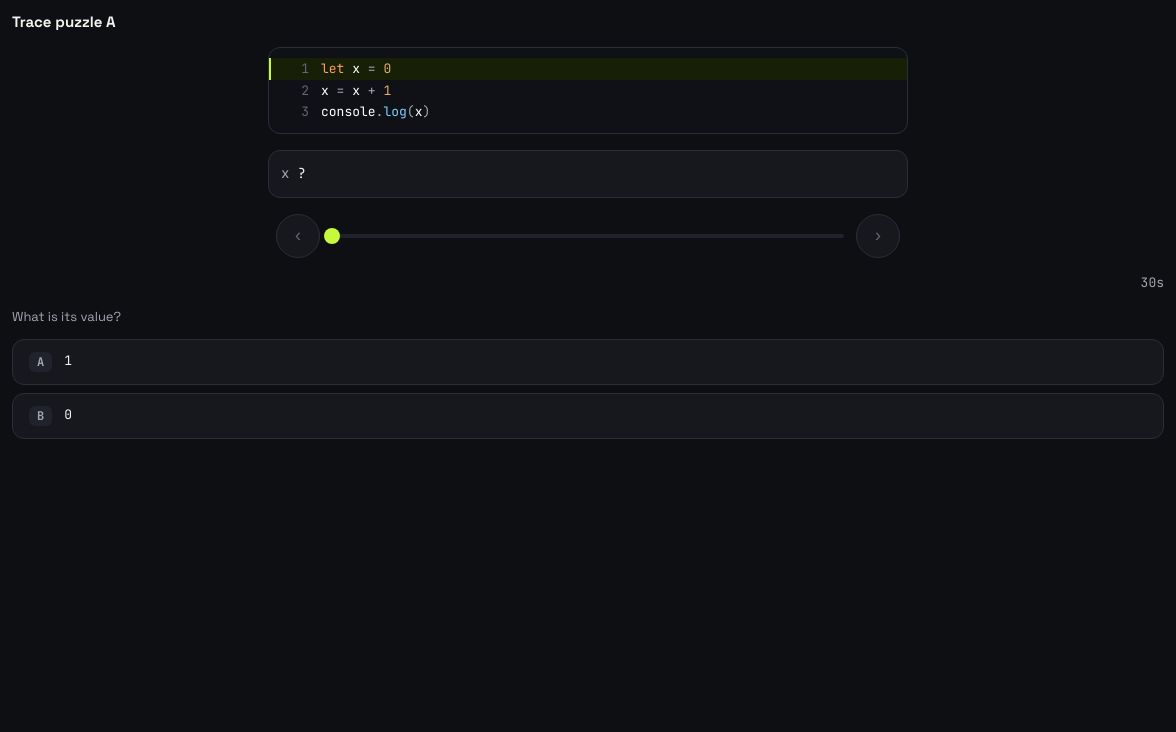
Test: TraceRunner + useTraceSession integration › answers every checkpoint in order, shows the solve panel, and Continue serves a fresh puzzle at step 0
Expected: the text "Trace puzzle A" is shown, [12,12,116,31]
Expected: the text "What is its value?" is shown, [12,308,121,325]
Click the button "B 0" at (41, 416), box [12,393,1164,439]
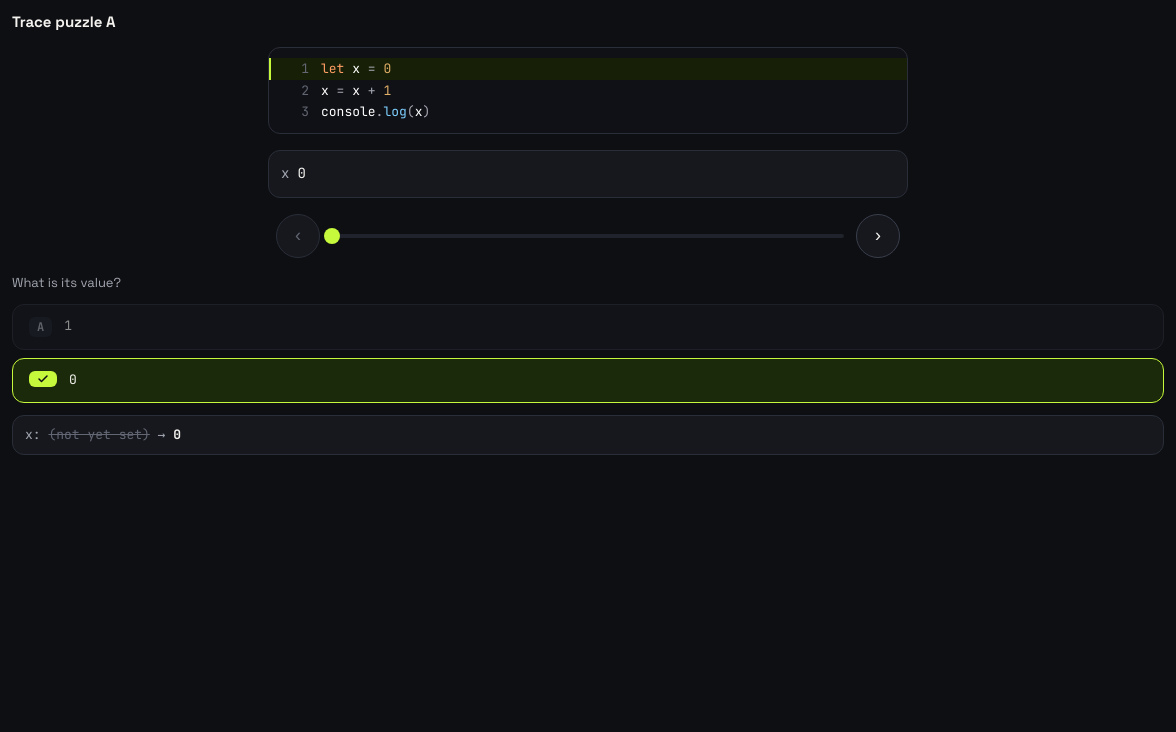
// Scrubbing forward is now capped at checkpoint 1's afterStep (1).
Click the button named "Next step" at (878, 236), box [856,214,900,258]
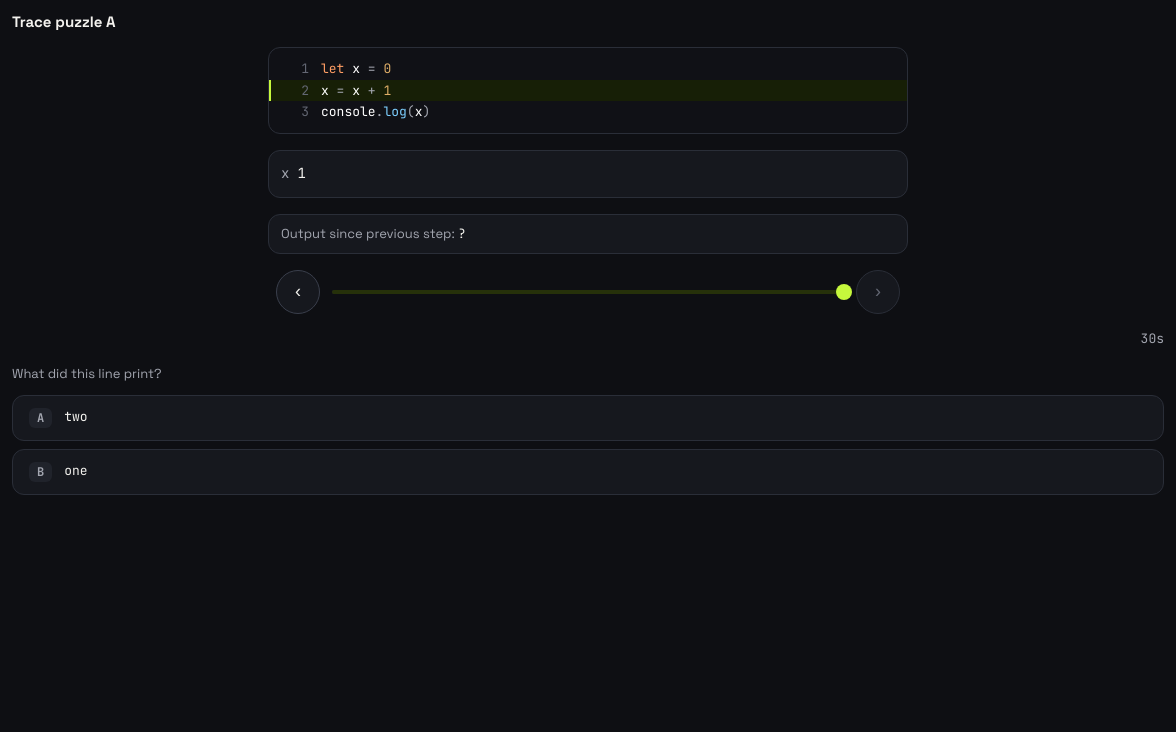
Now the button named "Next step" is disabled, box [856,270,900,314]
Now the text "What did this line print?" is shown, box [12,365,162,382]
Click the button "B one" at (41, 472), box [12,449,1164,495]
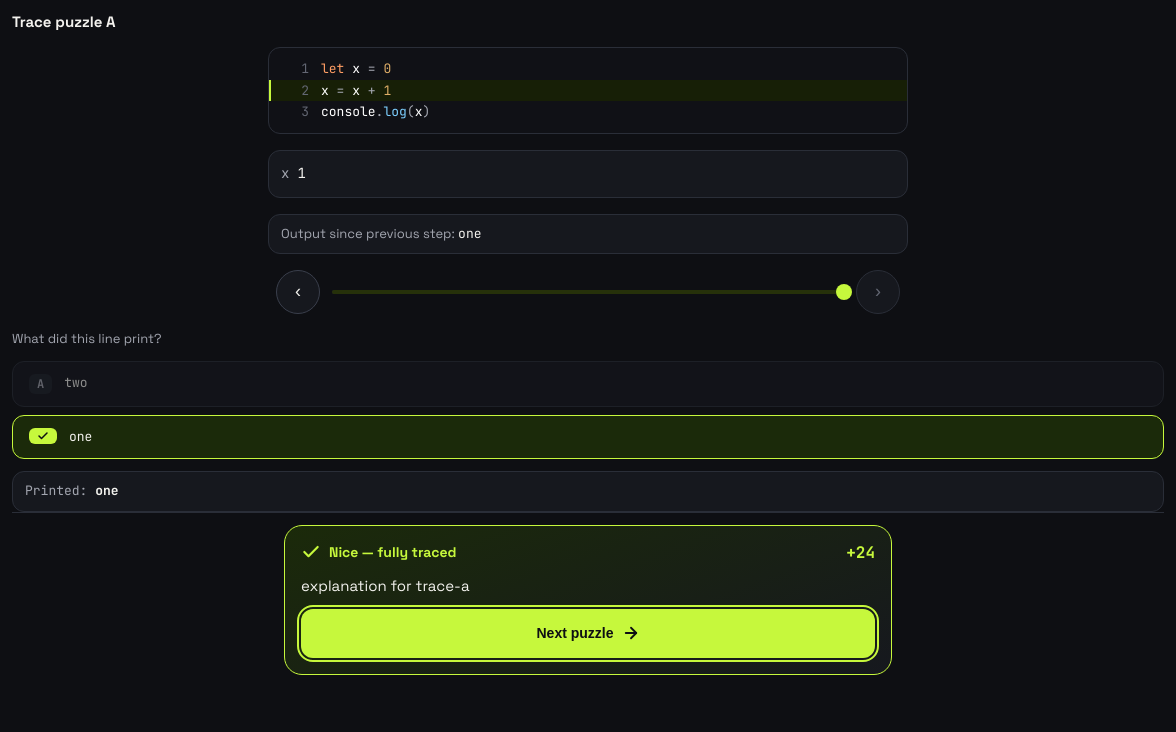
Now the message shows "Nice — fully traced", box [329,543,456,561]
Now the text "explanation for trace-a" is shown, box [301,576,470,595]
Click the button "Next puzzle" at (588, 633), box [301,608,875,658]
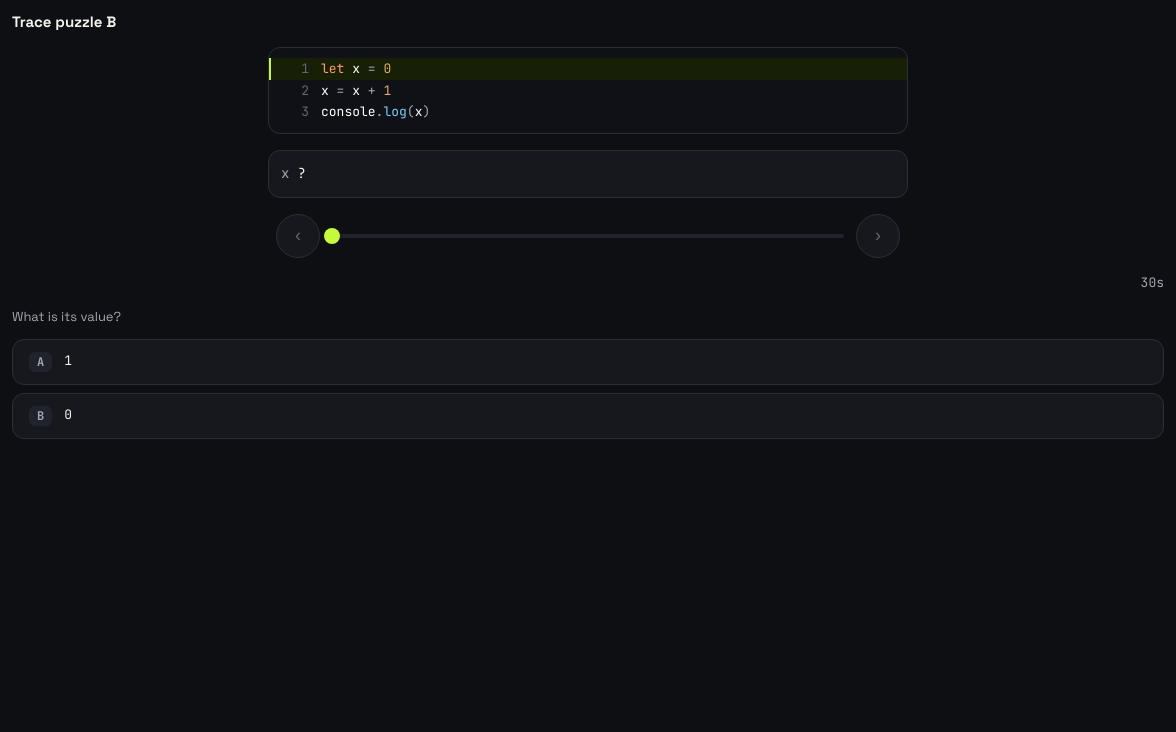
Now the text "Trace puzzle B" is shown, box [12,12,116,31]
Now the message "Nice — fully traced +24 explanation for trace-a Next puzzle" is gone
Now the text "What is its value?" is shown, box [12,308,121,325]
